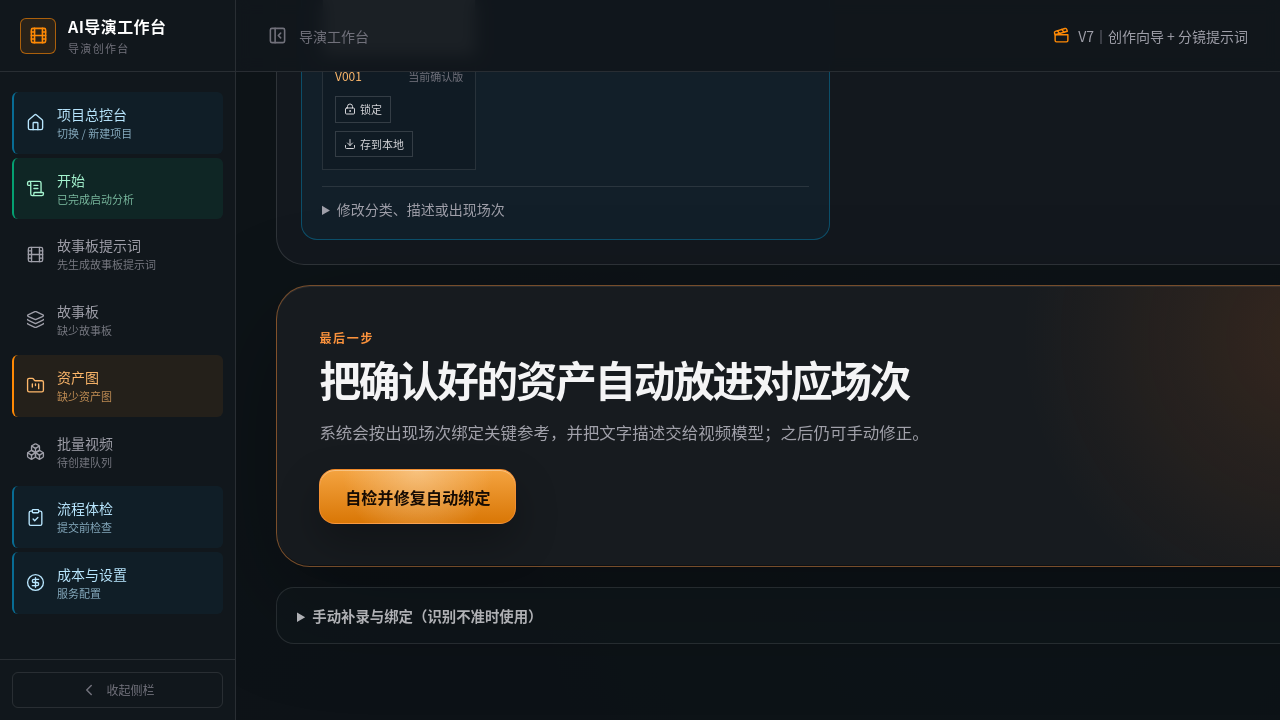
Test case: AI导演工作台 › 资产图全部确认后可按剧情自动绑定到场次
(page scrolled)
Expected: the heading "把确认好的资产自动放进对应场次" is shown, [319, 349, 909, 409]
Click the button "自检并修复自动绑定" at (418, 496), box [319, 469, 516, 524]
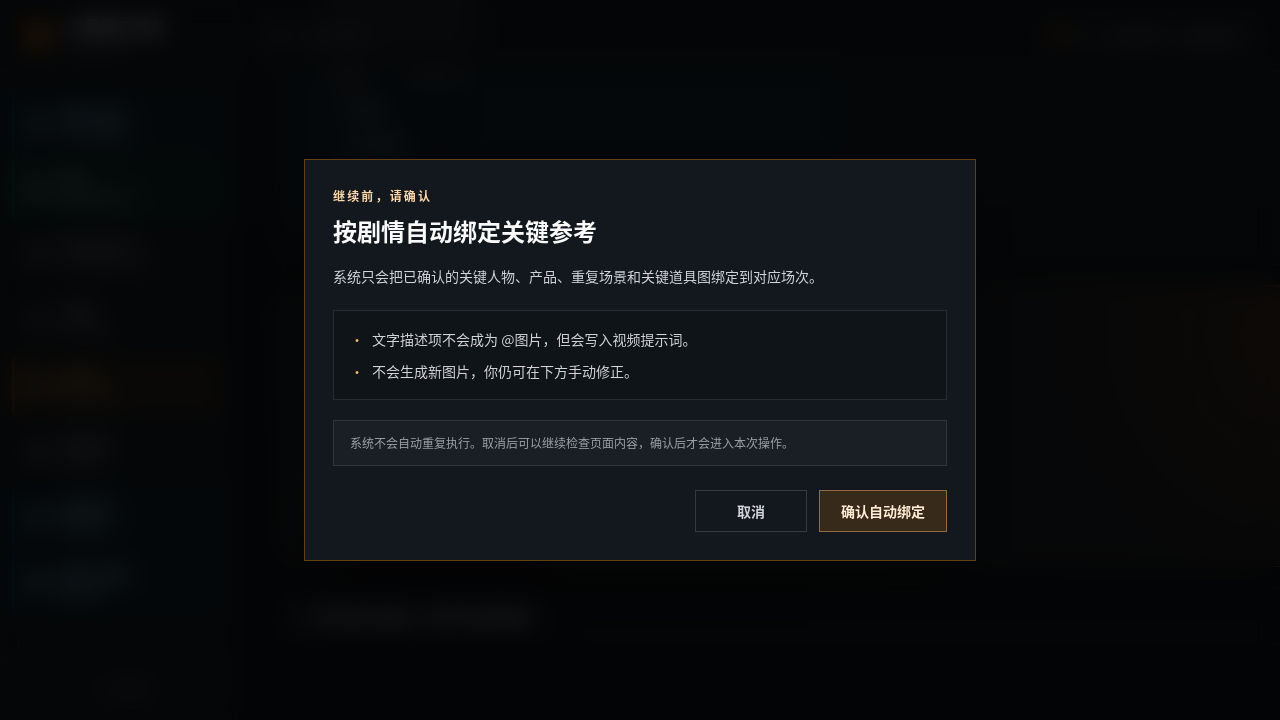
Expected: the text "继续前，请确认" is shown, [333, 187, 432, 204]
Expected: the heading "按剧情自动绑定关键参考" is shown, [333, 213, 597, 248]
Click the button "确认自动绑定" at (883, 511), box [819, 490, 947, 532]
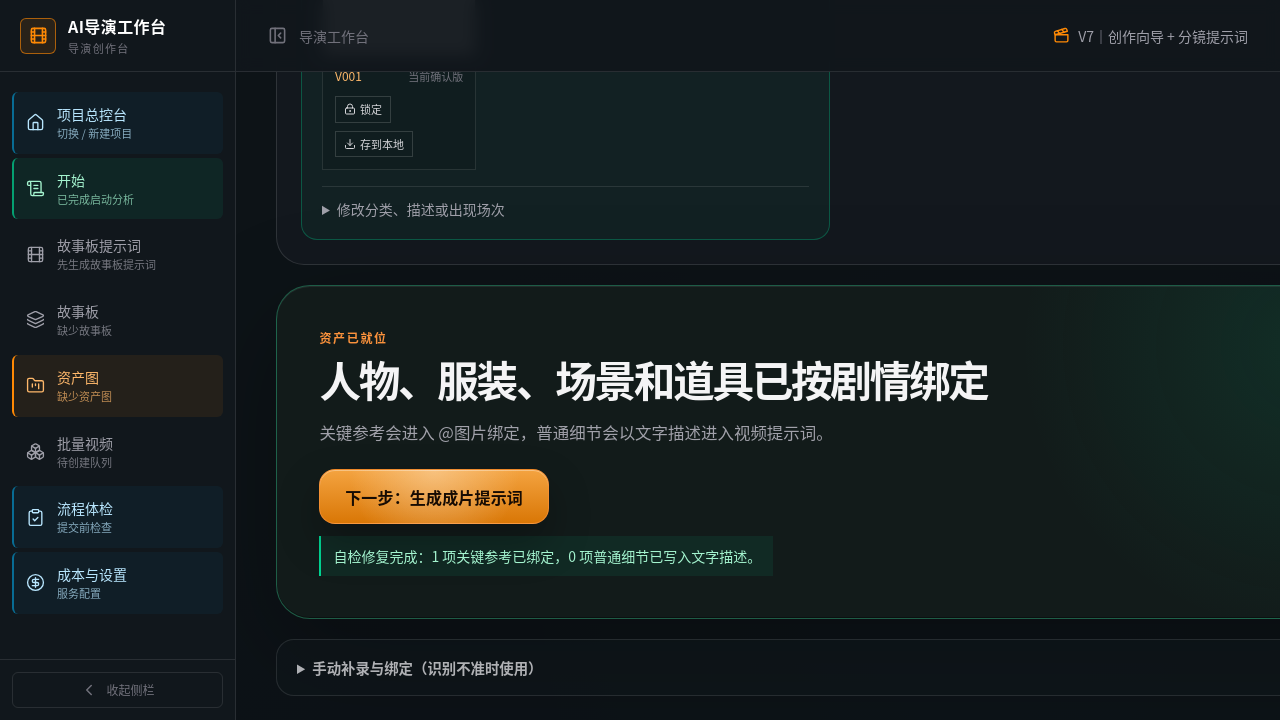
Expected: the text "自检修复完成：1 项关键参考已绑定，0 项普通细节已写入文字描述。" is shown, [333, 544, 761, 568]
Expected: the link "下一步：生成成片提示词" is shown, [319, 469, 549, 524]
